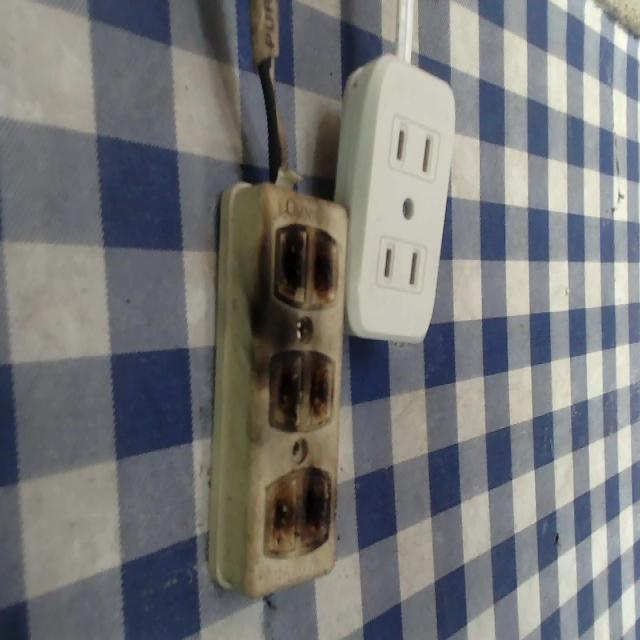-: (258, 463, 333, 560), (271, 215, 347, 304), (266, 348, 334, 433)
